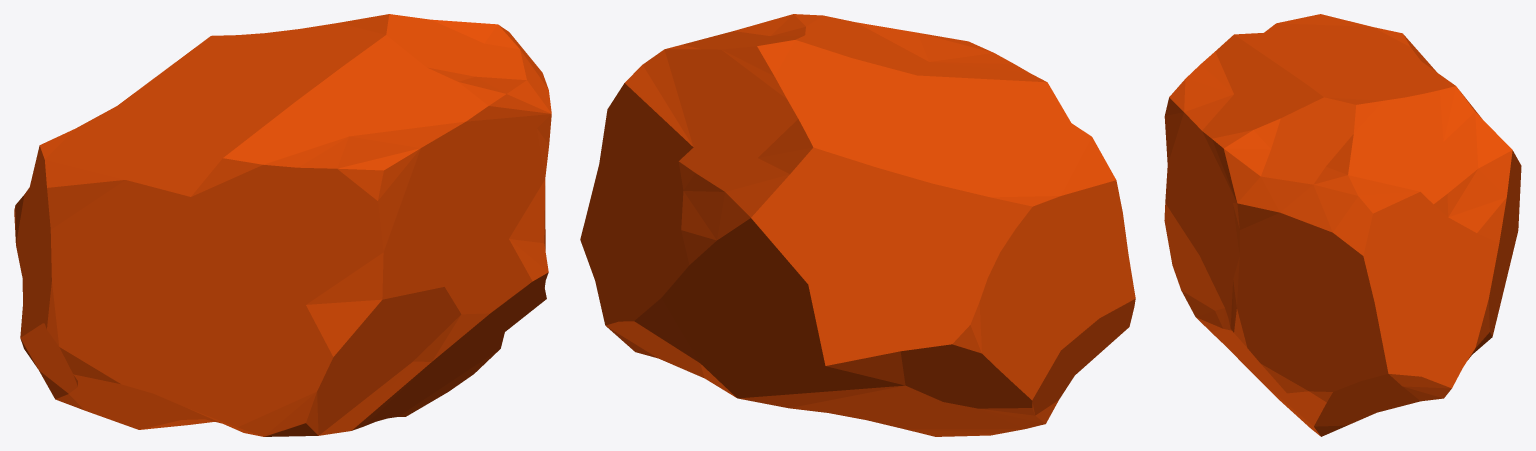
File: stone_3.fbx
The picture shows the model from 3 angles, left to right: view 1: azimuth 30°, elevation 25°; view 2: azimuth 150°, elevation 25°; view 3: azimuth 270°, elevation 25°; orthographic projection. The views are drawn at different scales.
Parts seen in each view (by area): view 1: Cube; view 2: Cube; view 3: Cube.
Boxes of the visible parts, x1,y1,x2,y2 form: Cube: [14, 14, 551, 436]; Cube: [580, 14, 1135, 436]; Cube: [1164, 14, 1521, 436].
Size of the model in its own units: 462 by 298 by 310.
